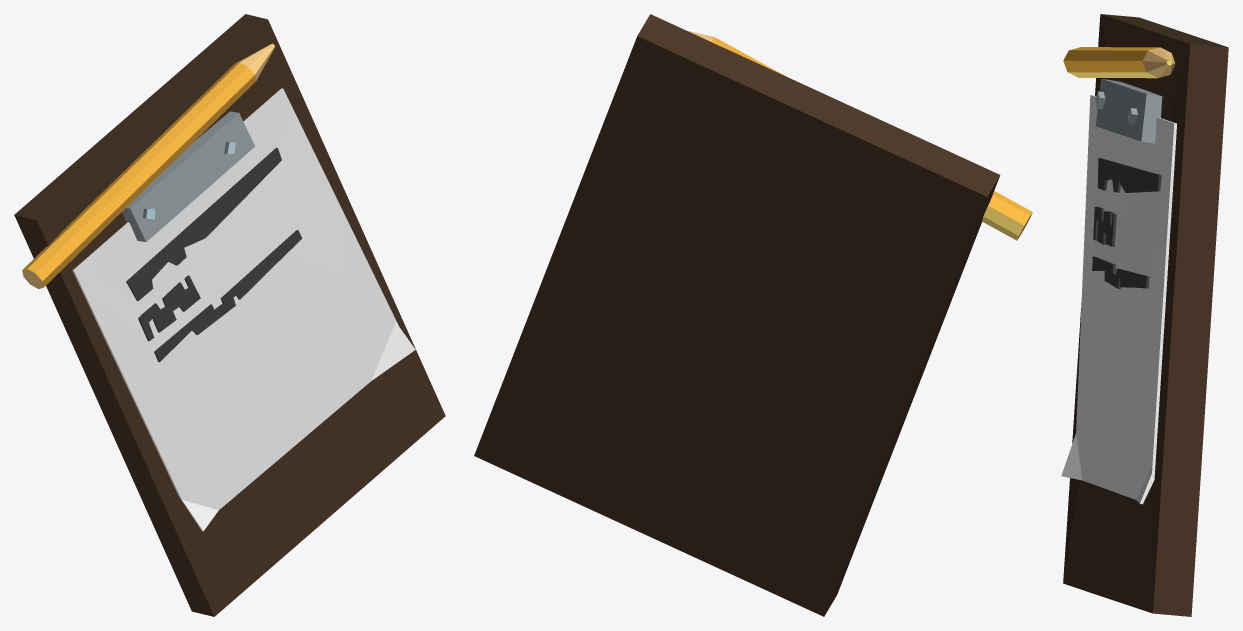
The model's file is _ClipBoard.fbx.
The picture shows the model from 3 angles, left to right: view 1: azimuth 30°, elevation 25°; view 2: azimuth 150°, elevation 25°; view 3: azimuth 270°, elevation 25°; orthographic projection. The views are drawn at different scales.
Visible parts, largest first — view 1: _Clipboard; view 2: _Clipboard; view 3: _Clipboard.
Boxes of the visible parts, x1=… form: _Clipboard: x1=14, y1=14, x2=445, y2=616; _Clipboard: x1=474, y1=14, x2=1032, y2=616; _Clipboard: x1=1061, y1=14, x2=1228, y2=616.
Size of the model in its own units: 0.3936 by 0.112 by 0.4473.
